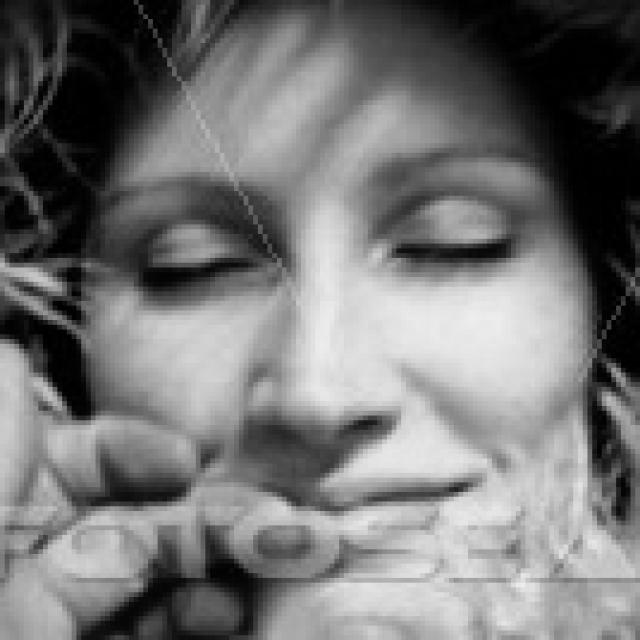real: (78, 0, 588, 597), (128, 206, 526, 309)
